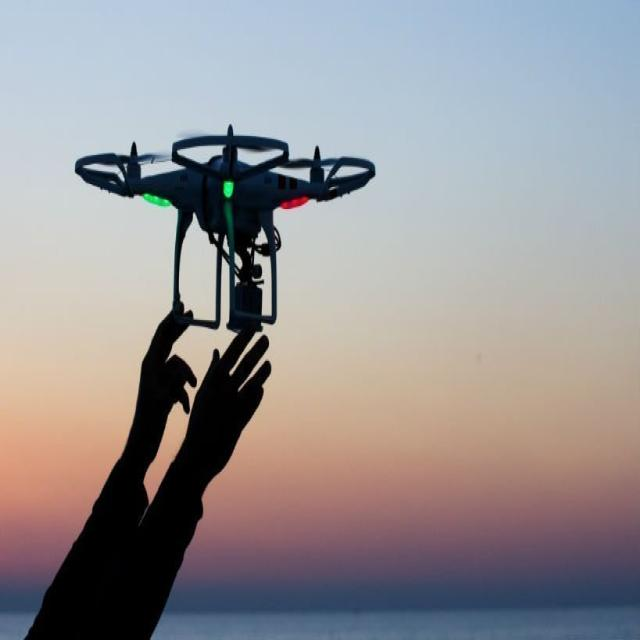drone: (66, 123, 392, 289)
